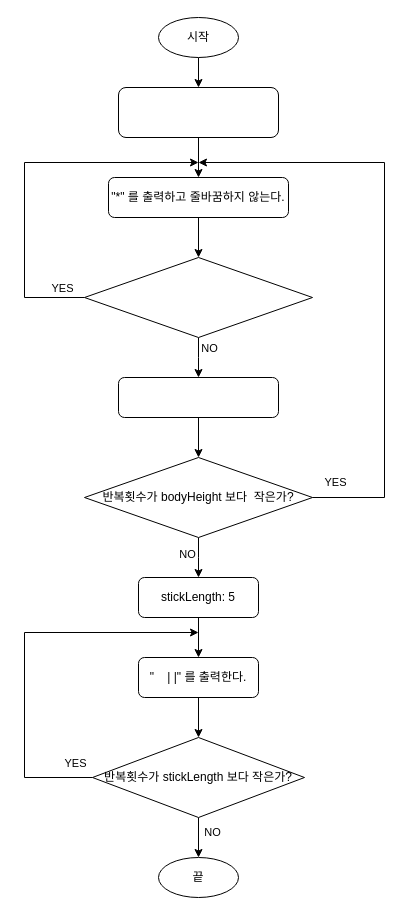
Image size: 410x915. Some labels were removed from this diagram. Each missing label, with the centre of its shape:
"bodyHeight: 8 bodyWidth: 11" belongs at [198,112].
"공란을 출력하여 줄바꿈한다." belongs at [198,397].
"반복횟수가 bodyWidth보다 작은가?" belongs at [198,297].
